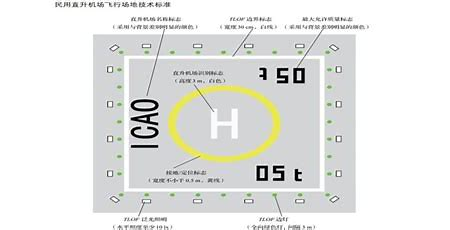H: (211, 108, 239, 140)
